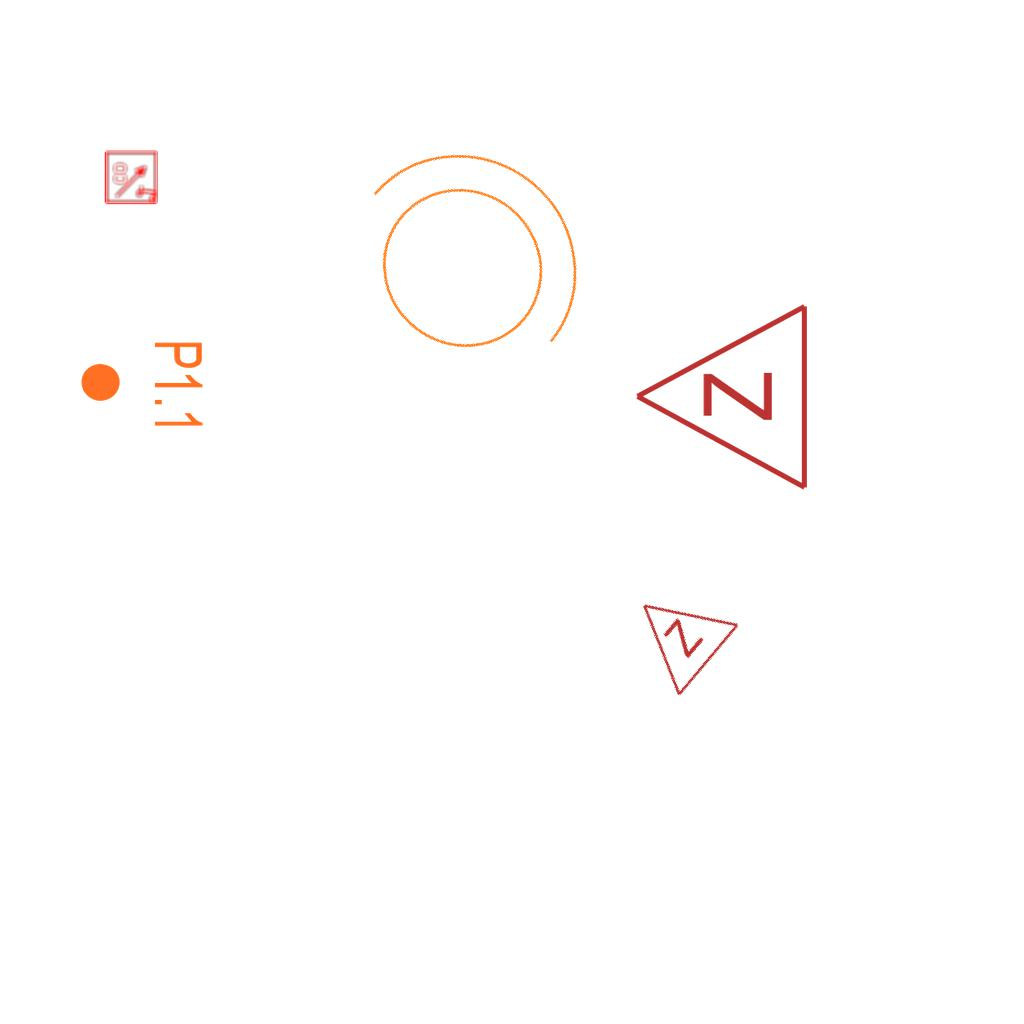Downlight_LED_Einbauleuchten_Flur: (78, 339, 206, 432)
ROA_Rauchmelder_optisch_mit_Signalgeber_(Sockelsirene): (104, 149, 160, 205)
Scheinwerfer_fuer_Alarmbeleuchtung: (290, 85, 638, 428)
Zimmersignalleuchte: (622, 301, 822, 497), (606, 564, 746, 704)
